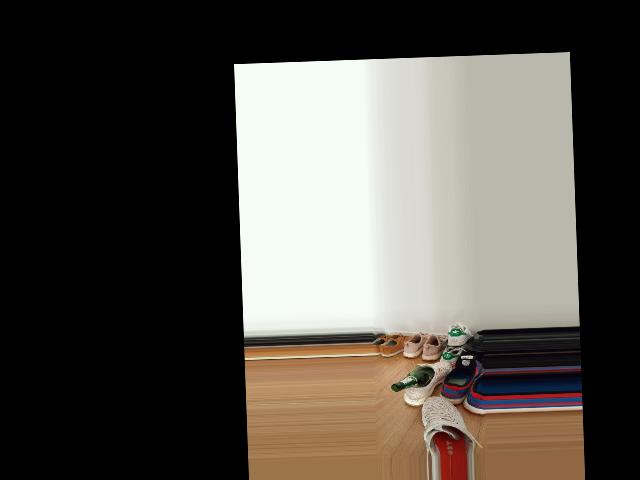beer: (390, 366, 435, 392)
